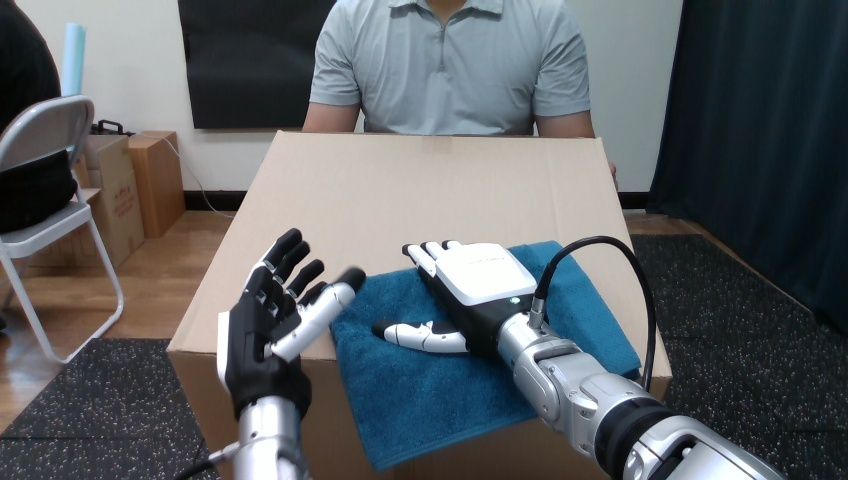left robot hand: (373, 236, 782, 479), (176, 228, 365, 479), (209, 228, 365, 479), (544, 243, 648, 384)
